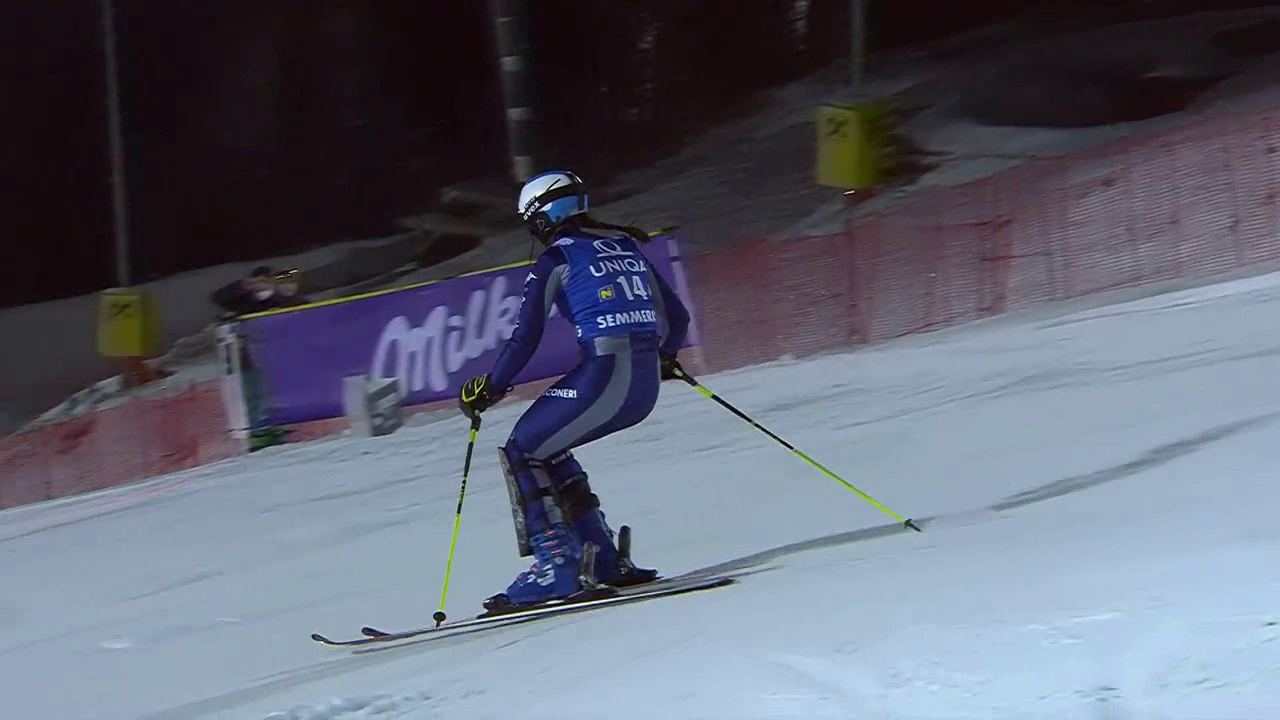milka: (366, 283, 537, 411)
raiffeisen: (818, 110, 859, 145)
uniqa: (585, 246, 651, 290)
